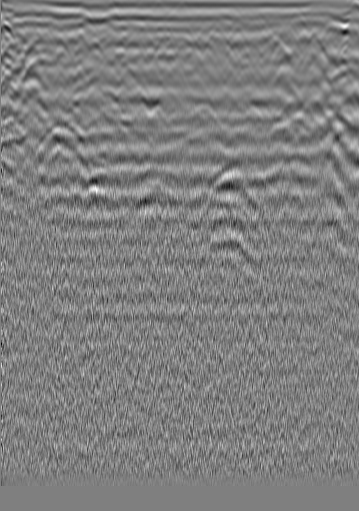가스: (80, 169, 109, 198)
상수: (292, 29, 312, 49)
오수: (27, 19, 47, 39)
우수: (179, 31, 199, 51)
